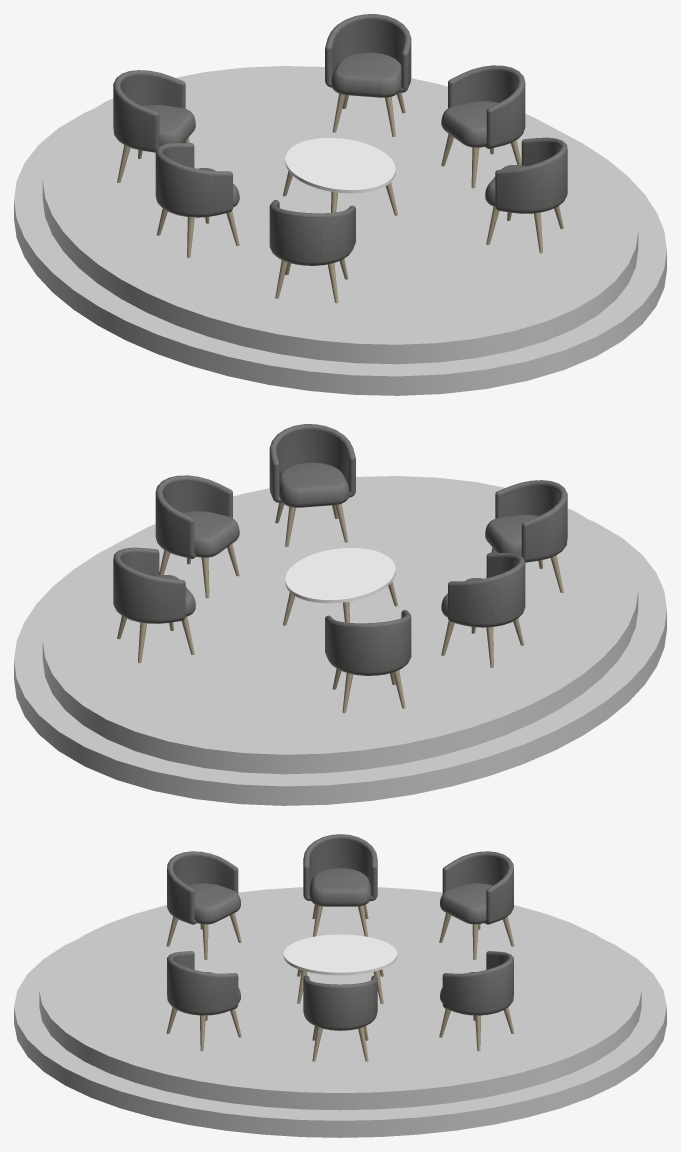
The model's file is Oval_Panelist_Center.gltf.
The picture shows the model from 3 angles, top to bottom: view 1: azimuth 30°, elevation 25°; view 2: azimuth 150°, elevation 25°; view 3: azimuth 270°, elevation 25°; orthographic projection. The views are drawn at different scales.
Visible parts, largest first — view 1: object 1, Stage Chair - Panelist (×6), Coffee Table; view 2: object 1, Stage Chair - Panelist (×6), Coffee Table; view 3: object 1, Stage Chair - Panelist (×6), Coffee Table.
Part boxes in pixels (x1=…): object 1: x1=14, y1=66, x2=666, y2=395; Stage Chair - Panelist (×6): x1=113, y1=14, x2=567, y2=303; Coffee Table: x1=283, y1=138, x2=397, y2=215; object 1: x1=14, y1=476, x2=666, y2=805; Stage Chair - Panelist (×6): x1=113, y1=424, x2=567, y2=713; Coffee Table: x1=283, y1=548, x2=397, y2=625; object 1: x1=14, y1=887, x2=666, y2=1137; Stage Chair - Panelist (×6): x1=166, y1=834, x2=514, y2=1061; Coffee Table: x1=283, y1=934, x2=397, y2=1003.
Bounding box in the file's own units: 4.37 × 1.02 × 5.29.
5 materials, 3 textured.
